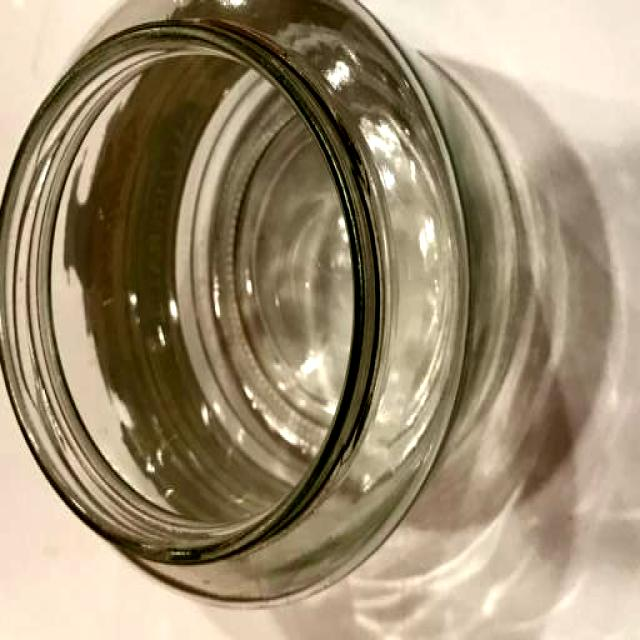Glass: (0, 0, 474, 616)
